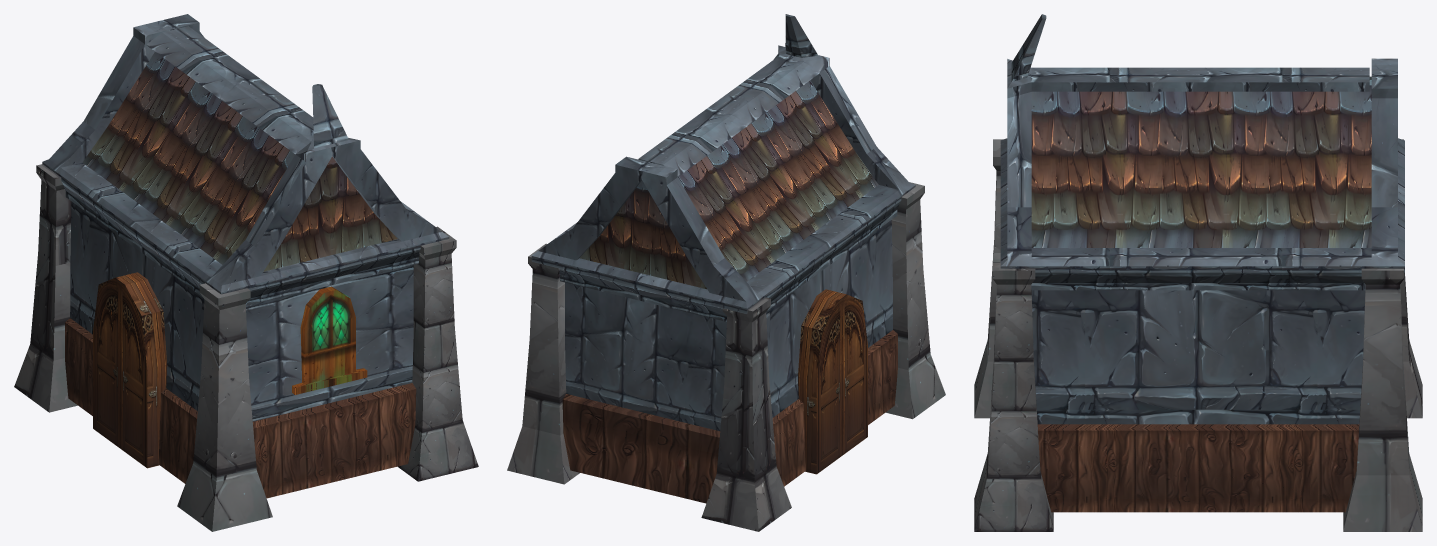
File: House Parts.glb
The picture shows the model from 3 angles, left to right: view 1: azimuth 30°, elevation 25°; view 2: azimuth 150°, elevation 25°; view 3: azimuth 270°, elevation 25°; orthographic projection. The views are drawn at different scales.
Parts seen in each view (by area): view 1: 0House; view 2: 0House; view 3: 0House.
Boxes of the visible parts, x1,y1,x2,y2 form: 0House: (14,14,478,531); 0House: (507,14,945,531); 0House: (974,14,1422,531).
Bounding box in the file's own units: 5.69 × 7.97 × 7.32.
Materials: 7 (7 with a texture image).
